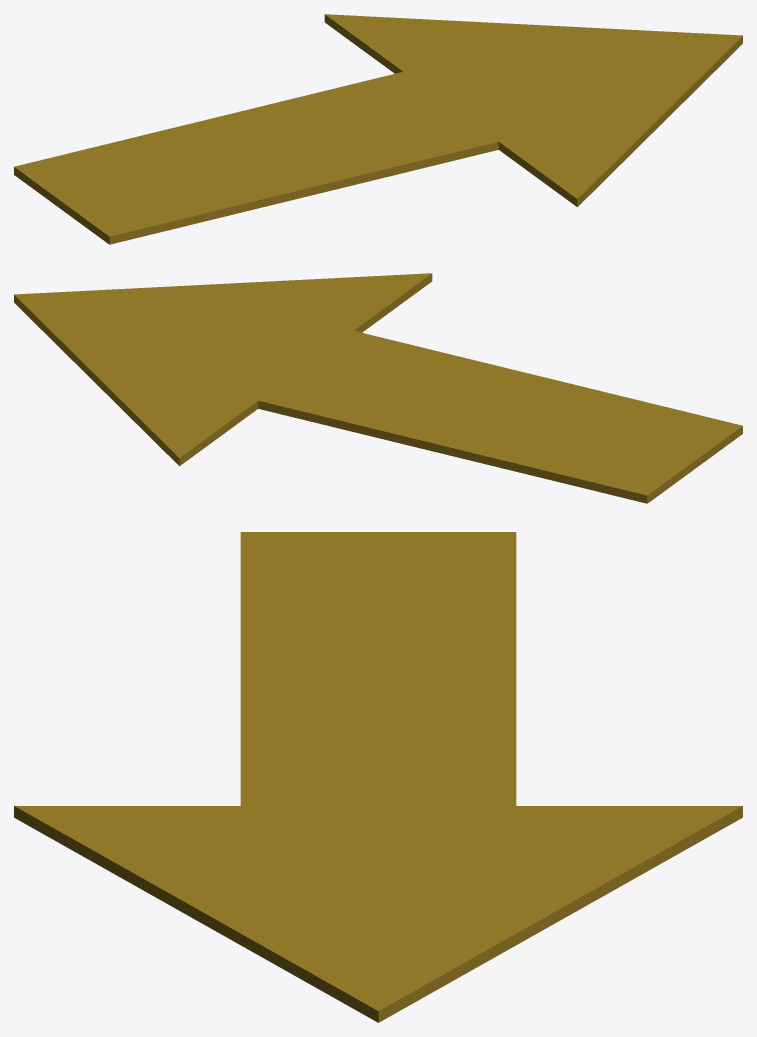
The model's file is floor_arrow.glb.
3 views of the same model, one above another, from view 1: azimuth 30°, elevation 25°; view 2: azimuth 150°, elevation 25°; view 3: azimuth 270°, elevation 25° (orthographic). The views are drawn at different scales.
Visible parts, largest first — view 1: Body; view 2: Body; view 3: Body.
Boxes of the visible parts, x1,y1,x2,y2 form: Body: (14, 14, 742, 244); Body: (14, 273, 742, 503); Body: (14, 532, 742, 1022).
Bounding box in the file's own units: 1.4 × 0.016 × 0.9.
